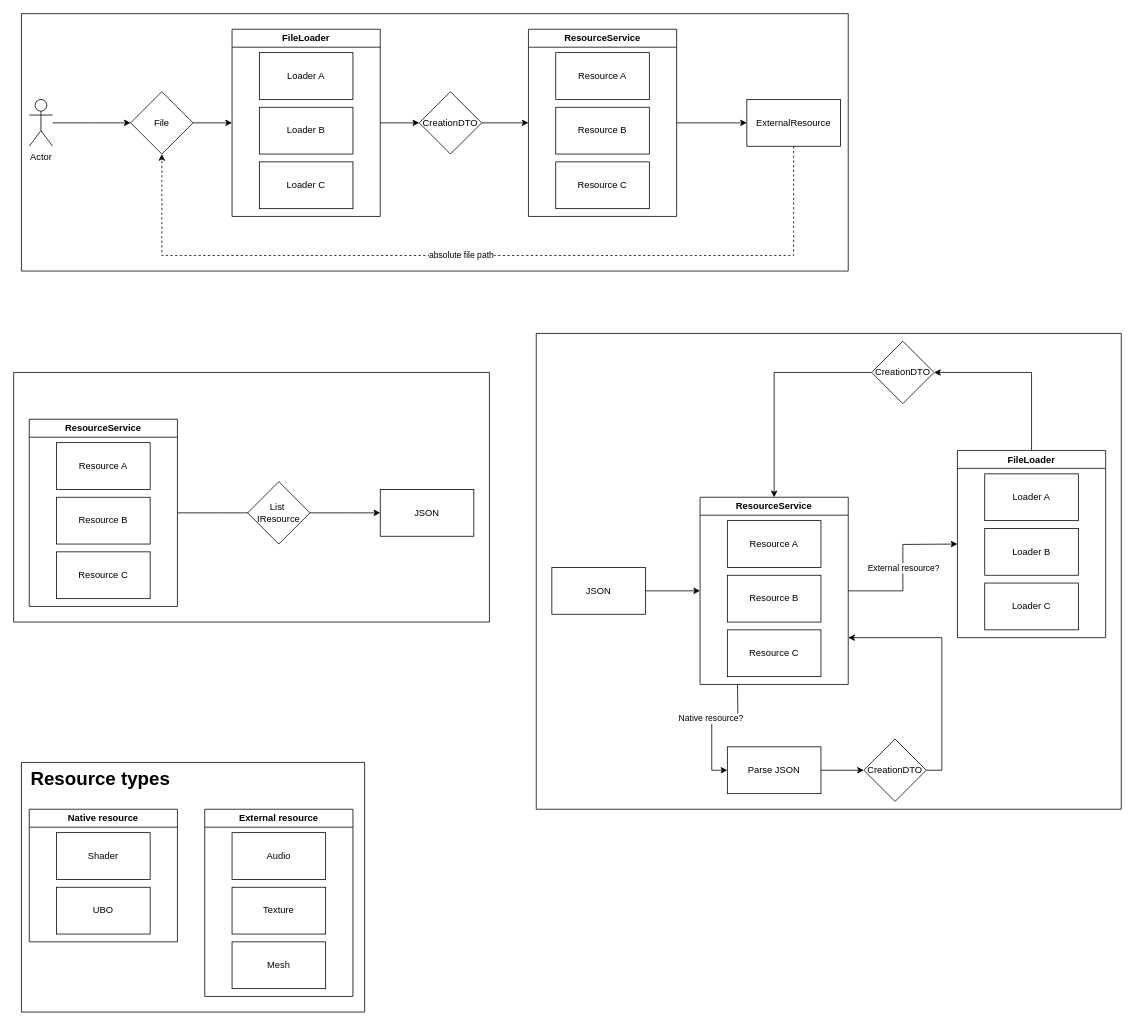
This 1135x1026 diagram has some shape labels left out. Each missing label, with the box of its shape:
Deserialization: (535, 333, 1121, 809)
External resource loading: (21, 13, 848, 271)
Serialization: (13, 372, 489, 622)
